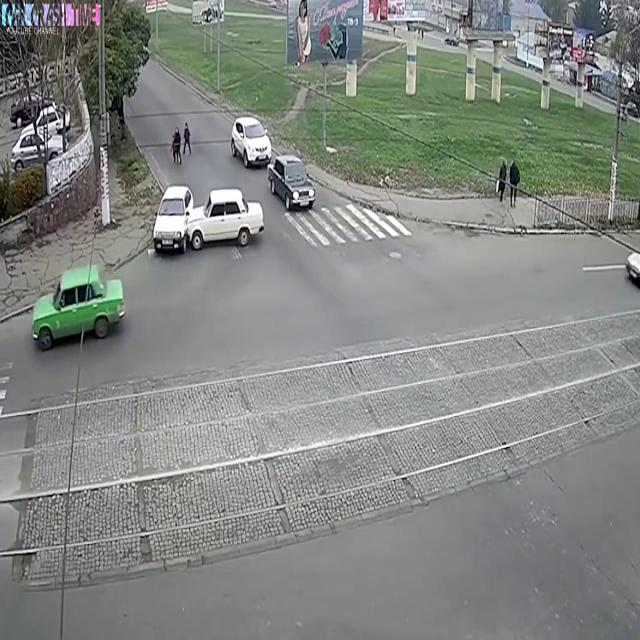accident: (148, 175, 269, 269)
non_accident: (229, 106, 318, 217)
